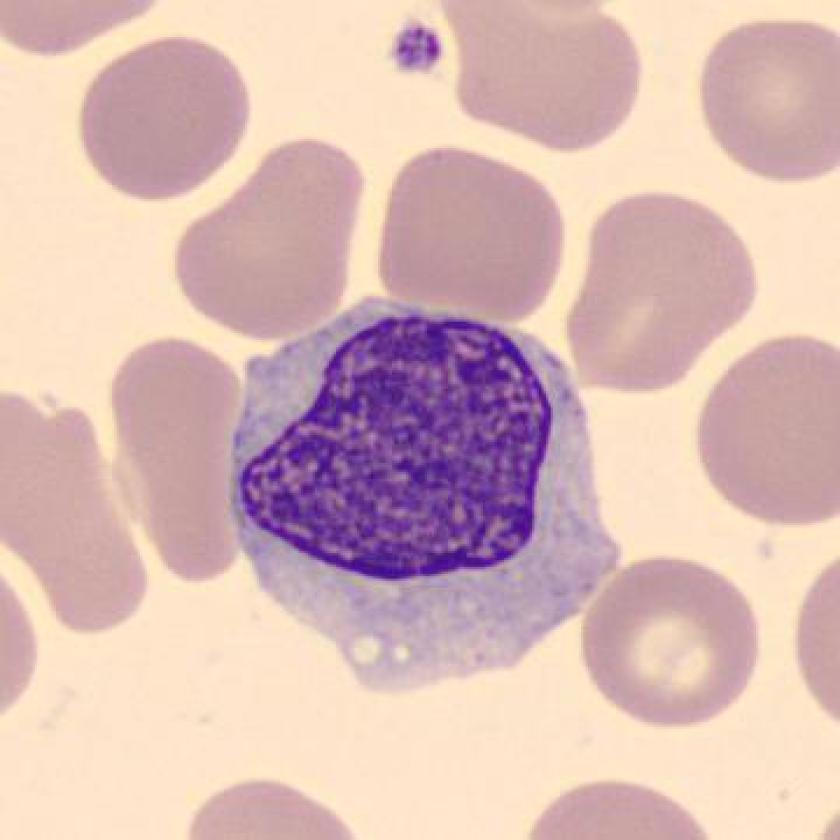monocyte: (216, 286, 640, 714)
